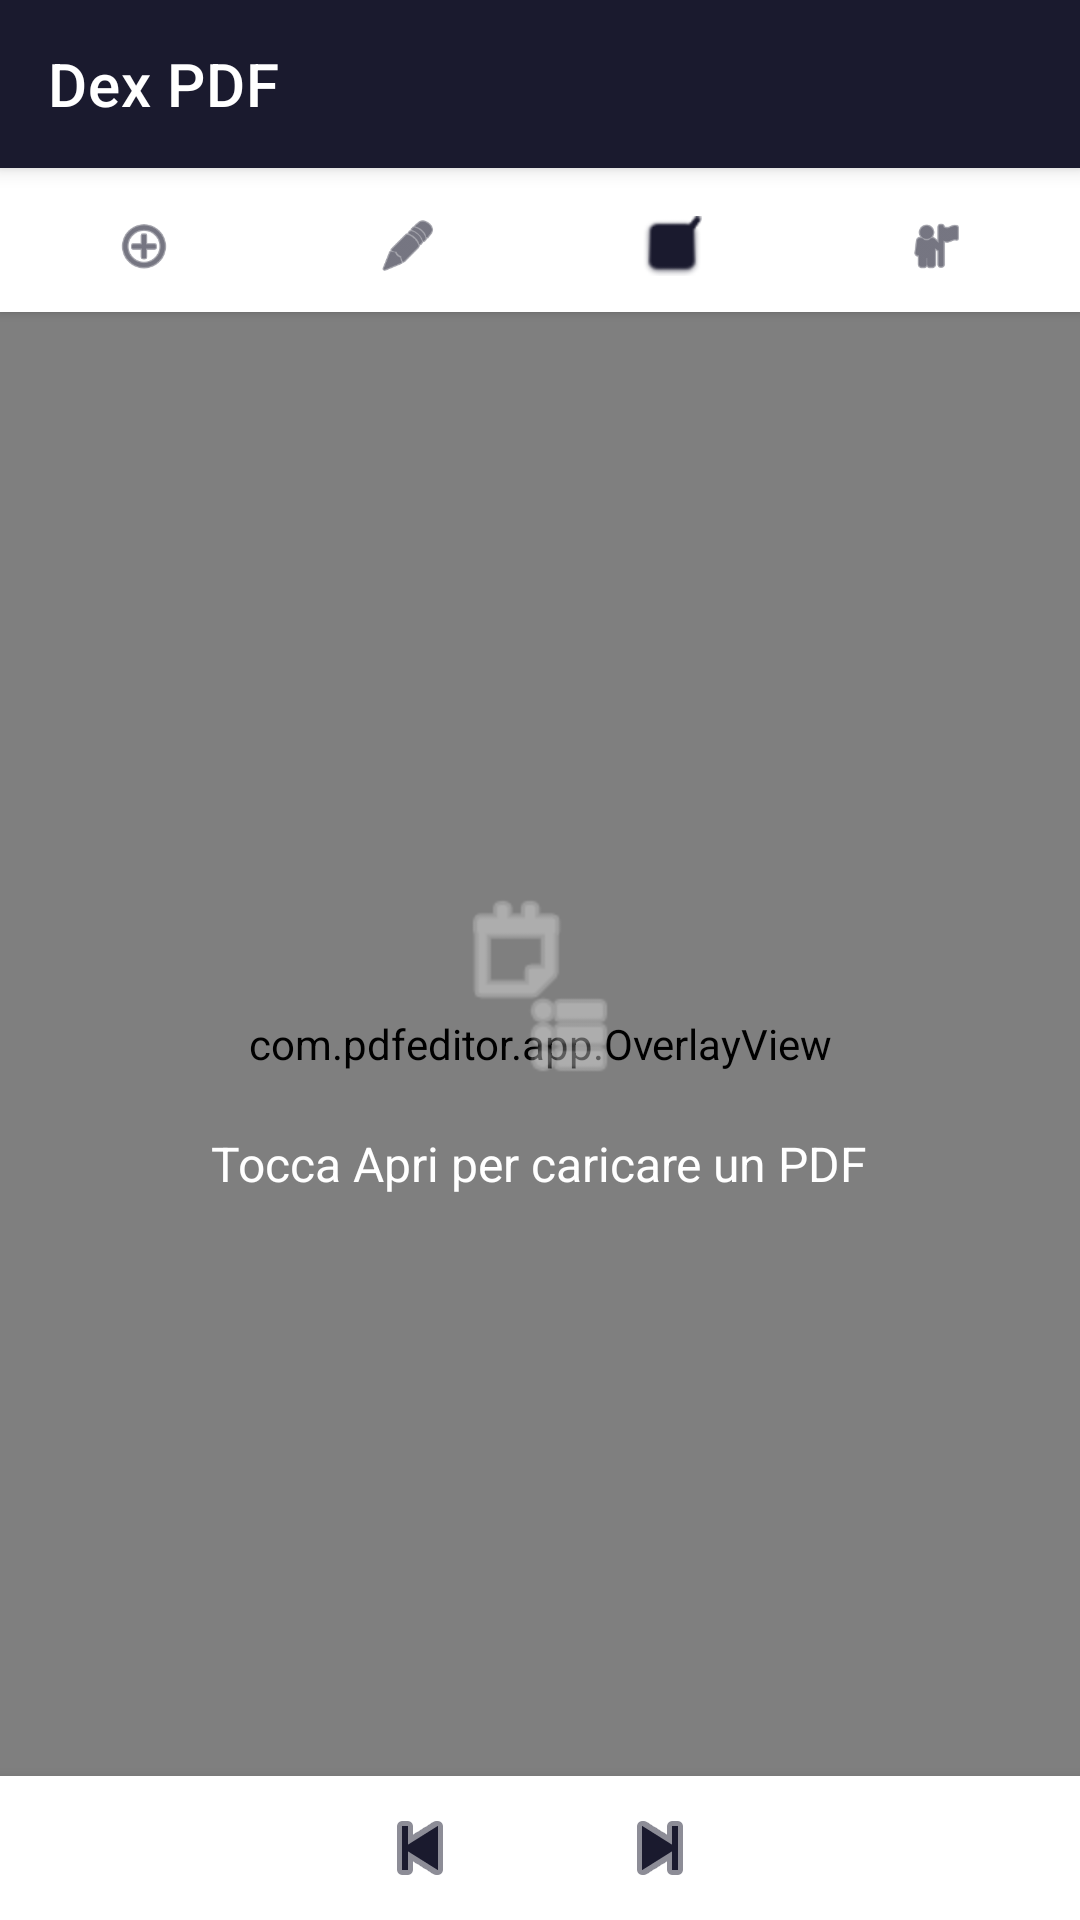

Icons on this 1080 × 1920 Android screen, each with the point to tap as point (x, y):
Next: point (660, 1848)
Previous: point (420, 1848)
